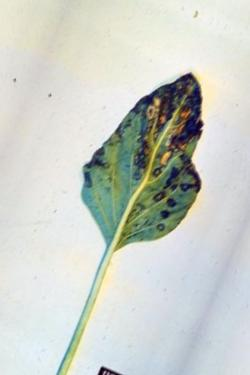Tomato leaf bacterial spot: (55, 42, 250, 281)
